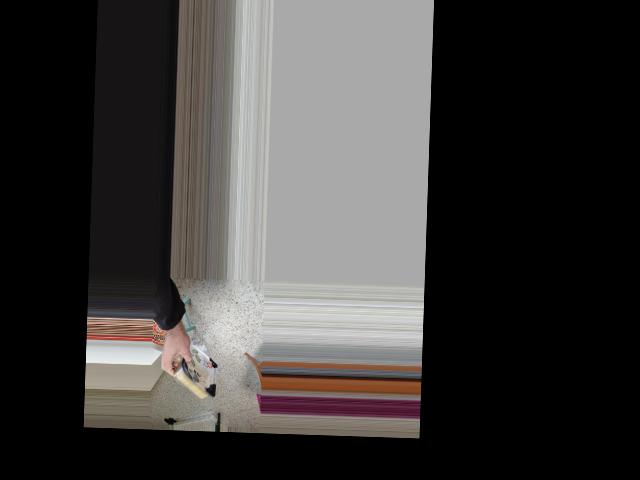cheese: (155, 346, 234, 413)
